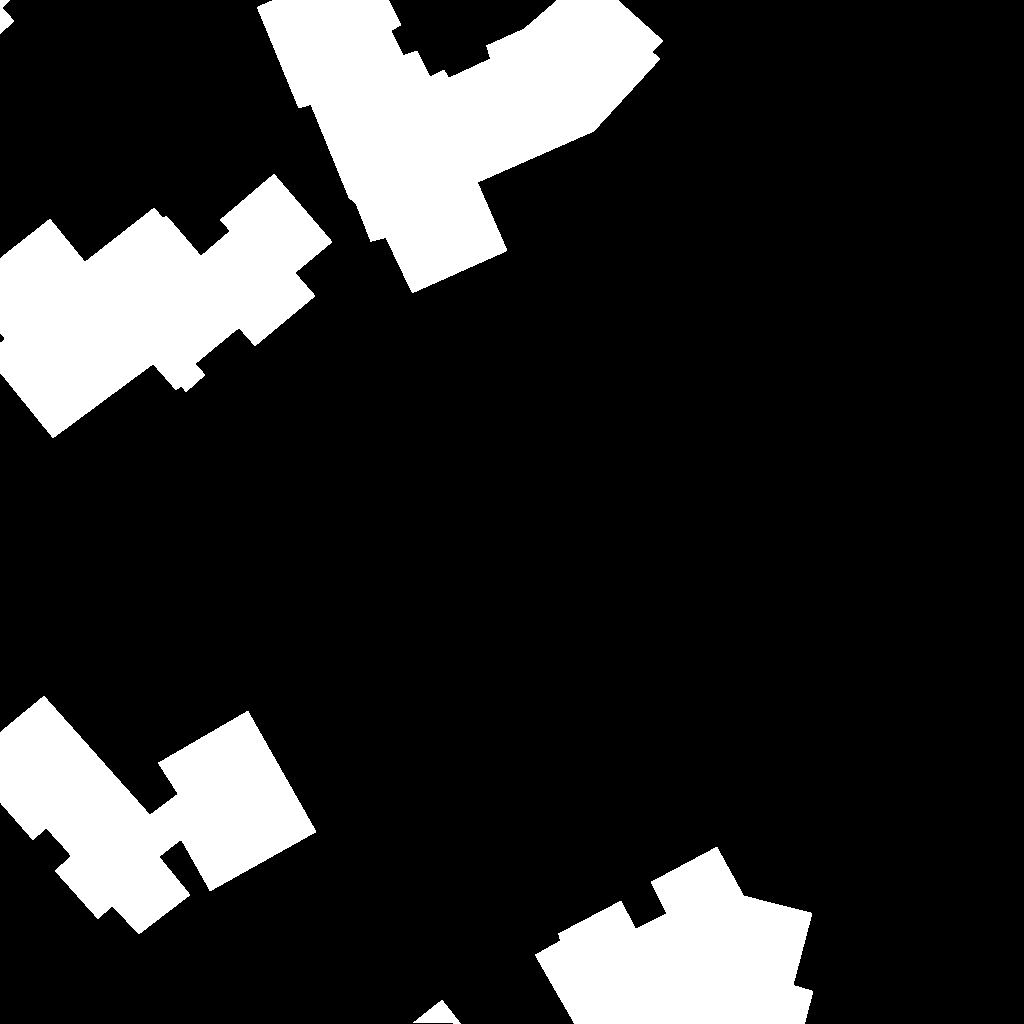building: (257, 0, 664, 294), (0, 174, 333, 439), (0, 696, 317, 935), (535, 847, 814, 1024), (413, 1000, 462, 1024), (0, 0, 15, 35)
